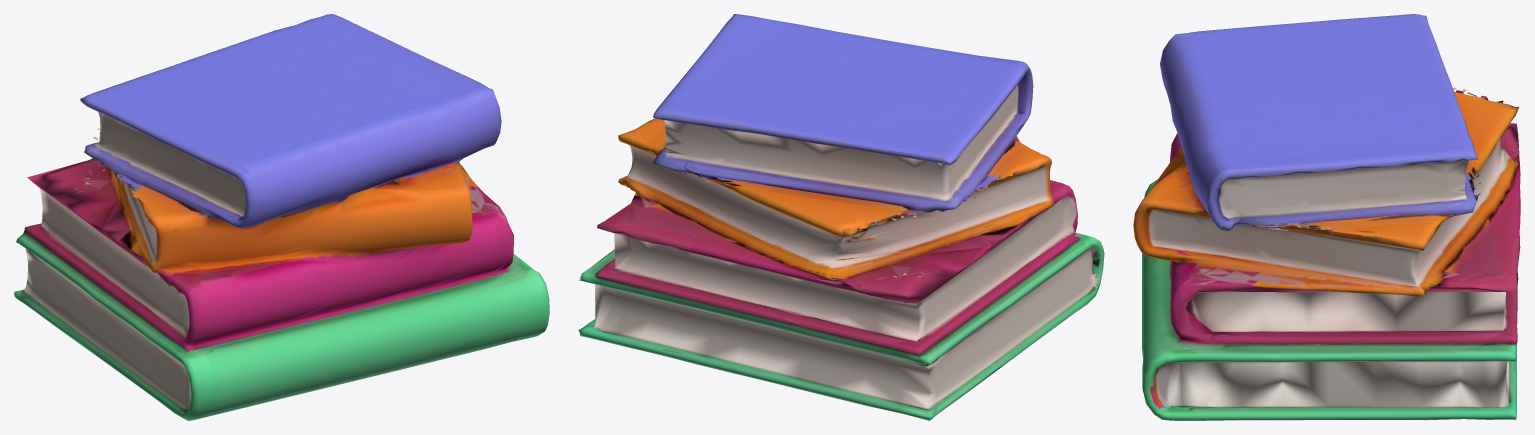
File: Meshy_AI_Colorful_Stack_0111134946_texture.fbx
3 views of the same model, side by side, from view 1: azimuth 30°, elevation 25°; view 2: azimuth 150°, elevation 25°; view 3: azimuth 270°, elevation 25° (orthographic). The views are drawn at different scales.
Visible parts, largest first — view 1: Mesh0; view 2: Mesh0; view 3: Mesh0.
Part boxes in pixels (x1,y1,x2,y2): Mesh0: (14,14,549,420); Mesh0: (578,14,1104,420); Mesh0: (1133,14,1520,420).
Size of the model in its own units: 192 by 117 by 170.
Materials: 1 (1 with a texture image).
